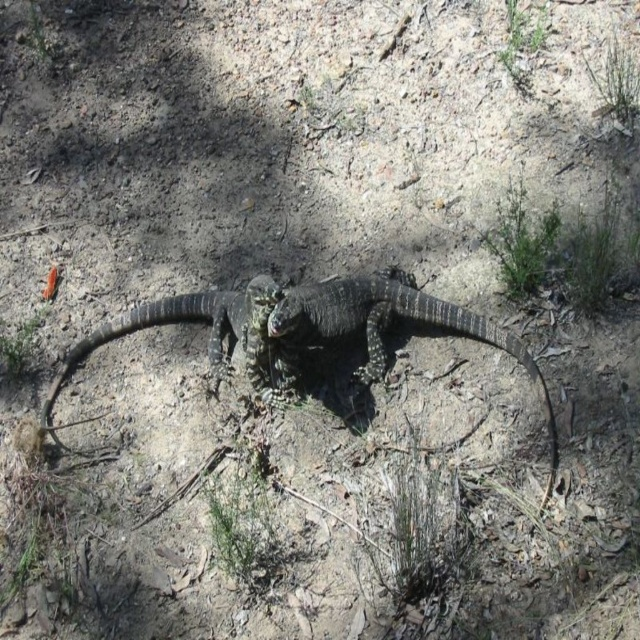Lizard: (266, 273, 553, 509), (46, 263, 302, 471)
